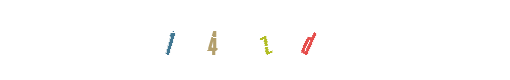1: (130, 0, 210, 80)
4: (192, 0, 272, 80)
D: (268, 0, 348, 80)
Z: (215, 0, 295, 80)
